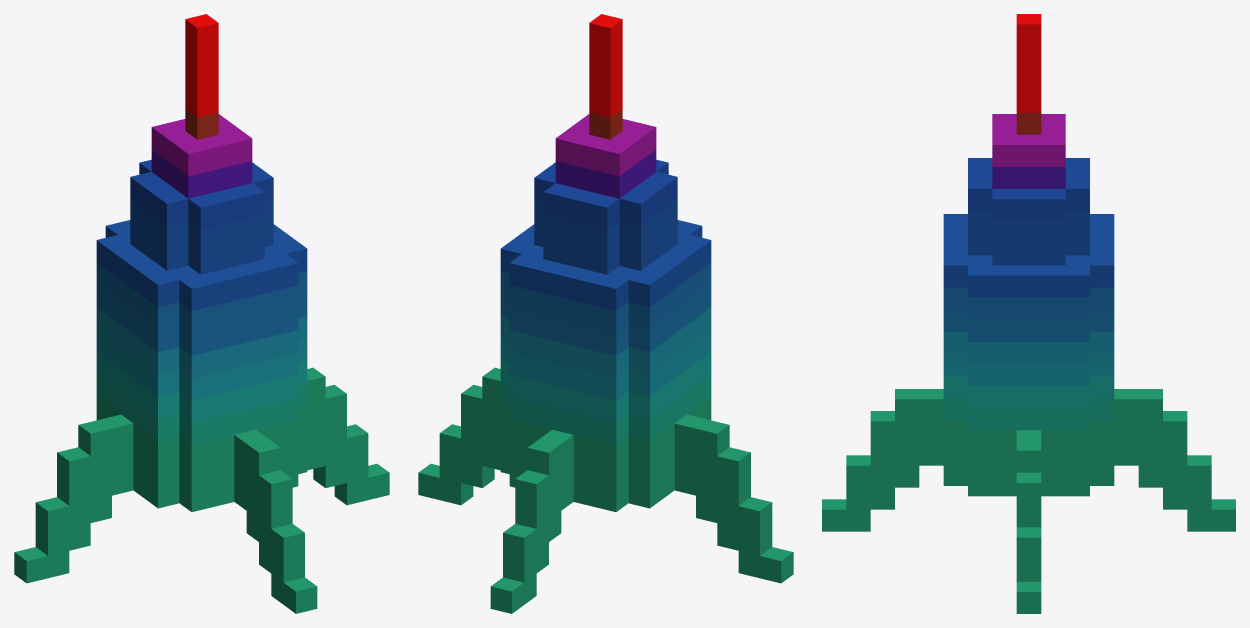
File: magic_missile.gltf
3 views of the same model, side by side, from view 1: azimuth 30°, elevation 25°; view 2: azimuth 150°, elevation 25°; view 3: azimuth 270°, elevation 25° (orthographic).
Visible parts, largest first — view 1: Layer.1 clone, Layer.3, Layer.4, Layer.2; view 2: Layer.1 clone, Layer.3, Layer.2 clone, Layer.2; view 3: Layer.1 clone, Layer.2 clone, Layer.4, Layer.2.
Part boxes in pixels (x1,y1,x2,y2): Layer.1 clone: (96,14,307,511); Layer.3: (14,414,133,583); Layer.4: (234,429,317,613); Layer.2: (307,367,389,505); Layer.1 clone: (500,14,711,511); Layer.3: (674,414,793,583); Layer.2 clone: (490,429,573,613); Layer.2: (418,367,500,505); Layer.1 clone: (943,14,1114,496); Layer.2 clone: (1114,389,1235,531); Layer.4: (822,389,943,531); Layer.2: (1016,430,1041,613).
Bounding box in the file's own units: 17 × 23 × 17.
Materials: 1 (1 with a texture image).
